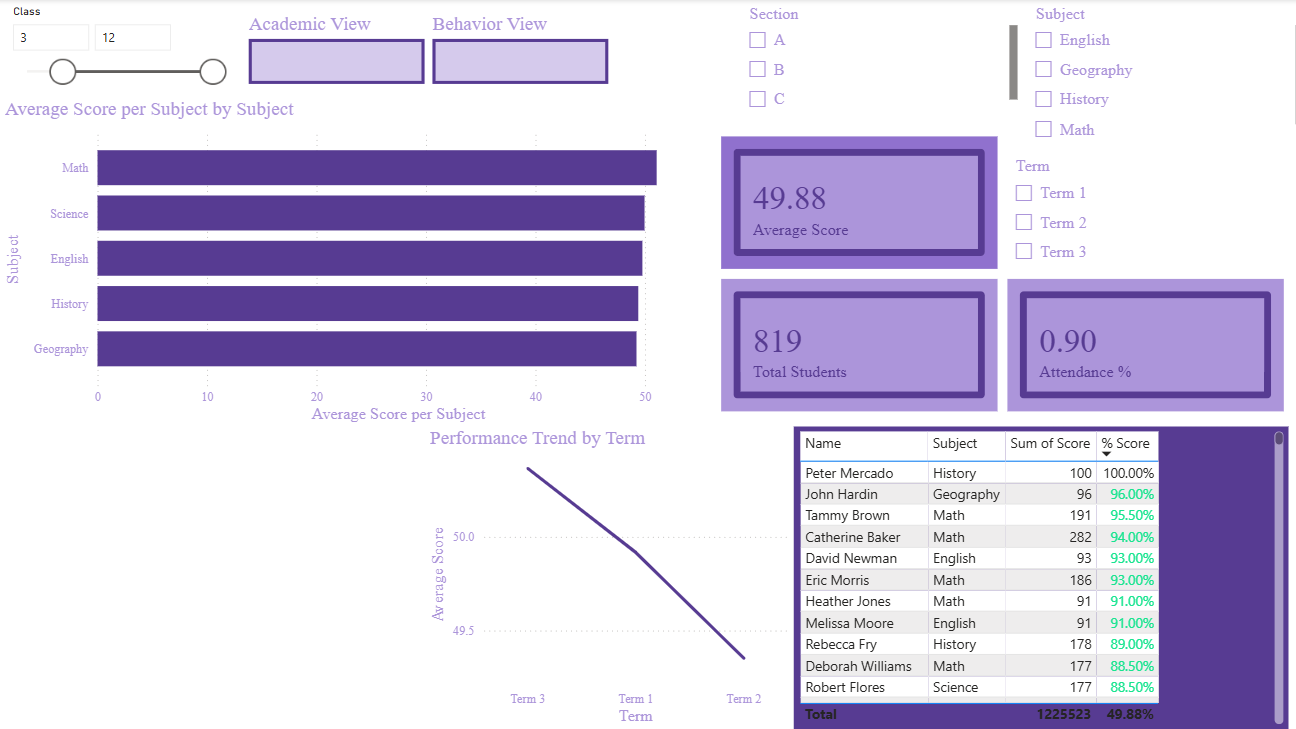

What the dashboard file says about the page in this screenshot:
{"tool":"powerbi","page":{"name":"Page 1","canvas":[1280,720],"ordinal":0},"visuals":[{"type":"cardVisual","fields":{"Data":["New Measure.Total Students"]},"box":[700.7,269,280,139.4],"z":0},{"type":"cardVisual","fields":{"Data":["New Measure.Attendance %"]},"box":[980.7,269,280,139.4],"z":1000},{"type":"cardVisual","fields":{"Data":["New Measure.Average Score"]},"box":[700.7,129.6,280,139.4],"z":2000},{"type":"donutChart","title":"Behavior Types Distribution","fields":{"Category":["Behavior.BehaviorType"],"Y":["New Measure.Behavior Count"]},"box":[0,418.5,415.8,296.4],"z":5000},{"type":"slicer","fields":{"Values":["Students.Class"]},"box":[0,0,229.2,96.1],"z":7000},{"type":"slicer","fields":{"Values":["Students.Section"]},"box":[720.4,0,279.9,115.3],"z":8000},{"type":"slicer","fields":{"Values":["Scores.Subject"]},"box":[1000.3,0,279.9,149.6],"z":9000},{"type":"slicer","fields":{"Values":["Scores.Term"]},"box":[980.7,149.2,299.6,119.8],"z":10000},{"type":"actionButton","title":"Behavior View","box":[423.2,13.4,172,69.9],"z":11000},{"type":"actionButton","title":"Academic View","box":[243.2,13.4,172,69.9],"z":12000}]}

Visuals, with their boxes in screenshot pixels (x1, y1, x2, y2), scaled from the page's 1280x720 canvas onto the 1296x729 screenshot:
cardVisual - New Measure.Total Students: (709, 272, 993, 414)
cardVisual - New Measure.Attendance %: (993, 272, 1276, 414)
cardVisual - New Measure.Average Score: (709, 131, 993, 272)
"Behavior Types Distribution" donutChart: (0, 424, 421, 724)
slicer - Students.Class: (0, 0, 232, 97)
slicer - Students.Section: (729, 0, 1013, 117)
slicer - Scores.Subject: (1013, 0, 1295, 151)
slicer - Scores.Term: (993, 151, 1295, 272)
"Behavior View" actionButton: (428, 14, 603, 84)
"Academic View" actionButton: (246, 14, 420, 84)
